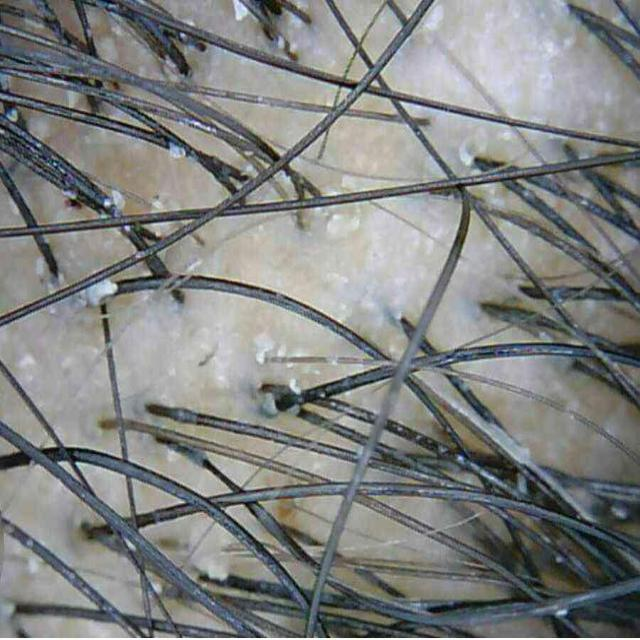d: (82, 279, 119, 305), (326, 213, 360, 238), (254, 334, 274, 364), (260, 393, 279, 417), (110, 189, 125, 212), (233, 0, 249, 20)
